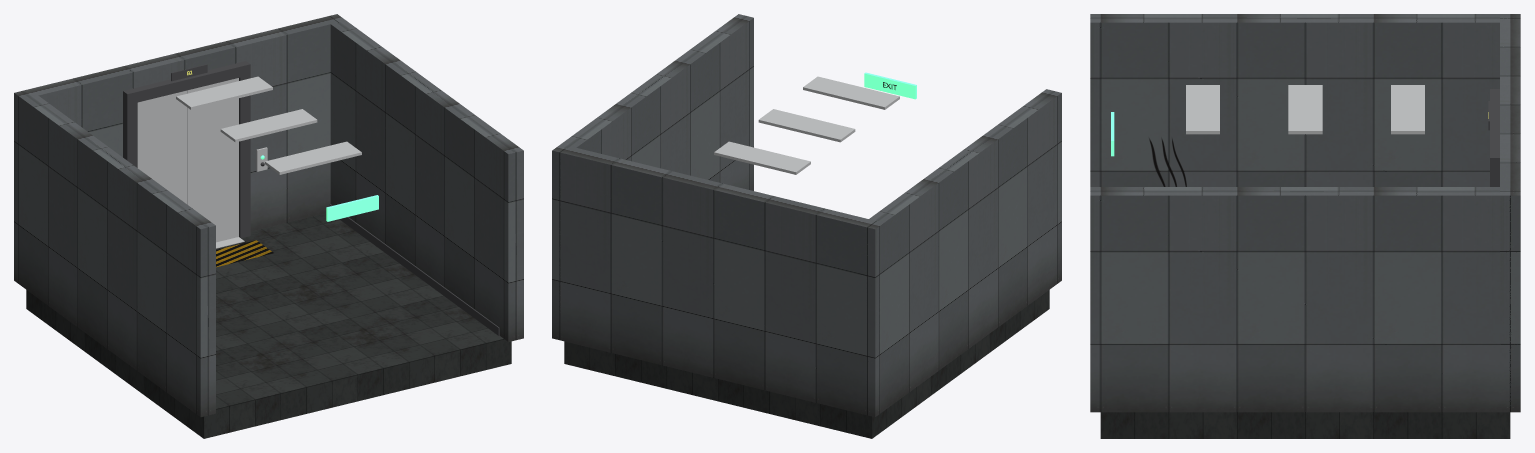
The model's file is exit.glb.
3 renders of one model, left to right at view 1: azimuth 30°, elevation 25°; view 2: azimuth 150°, elevation 25°; view 3: azimuth 270°, elevation 25°, orthographic. The views are drawn at different scales.
Parts seen in each view (by area): view 1: Room_exit; view 2: Room_exit; view 3: Room_exit.
Part boxes in pixels (left/top/right/bottom): Room_exit: left=14, top=14, right=523, bottom=438; Room_exit: left=552, top=14, right=1061, bottom=438; Room_exit: left=1090, top=14, right=1520, bottom=438.
Size of the model in its own units: 6.3 by 4 by 6.3.
Materials: 10 (4 with a texture image).
